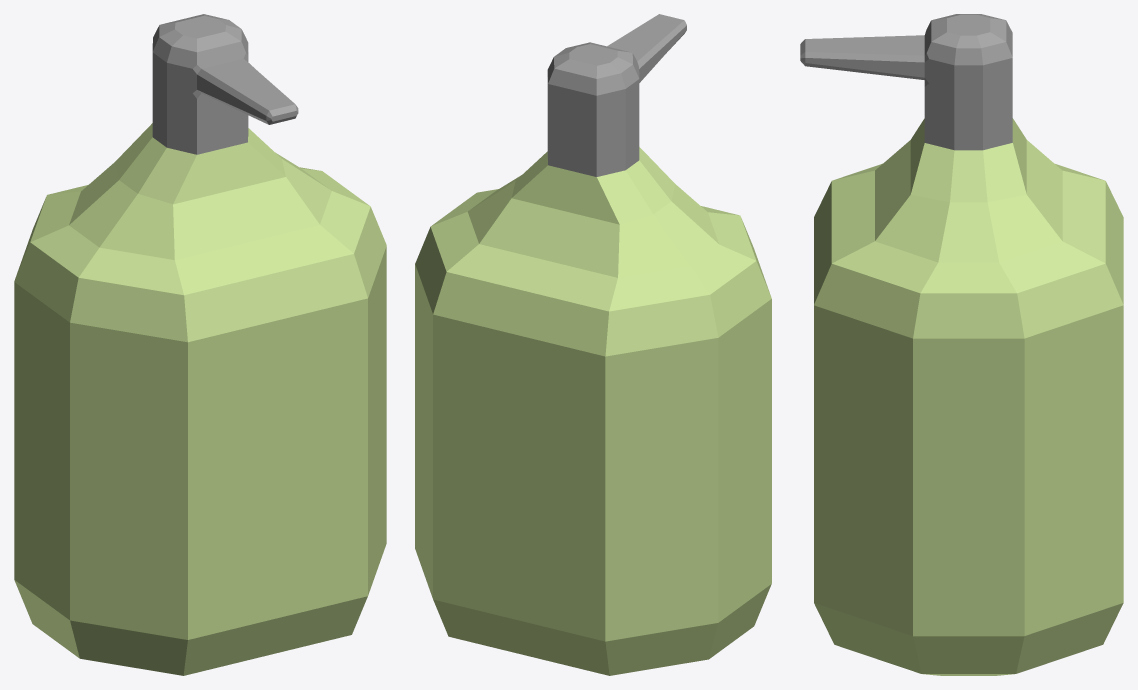
Rendered from SoapDispenser.fbx.
3 renders of one model, left to right at view 1: azimuth 30°, elevation 25°; view 2: azimuth 150°, elevation 25°; view 3: azimuth 270°, elevation 25°, orthographic. The views are drawn at different scales.
Visible parts, largest first — view 1: SoapDispenser; view 2: SoapDispenser; view 3: SoapDispenser.
Boxes of the visible parts, left/top/right/bottom form: SoapDispenser: left=14, top=14, right=386, bottom=675; SoapDispenser: left=415, top=14, right=771, bottom=675; SoapDispenser: left=800, top=14, right=1123, bottom=675.
Size of the model in its own units: 0.0585 by 0.1054 by 0.0517.
1 material, 1 textured.
